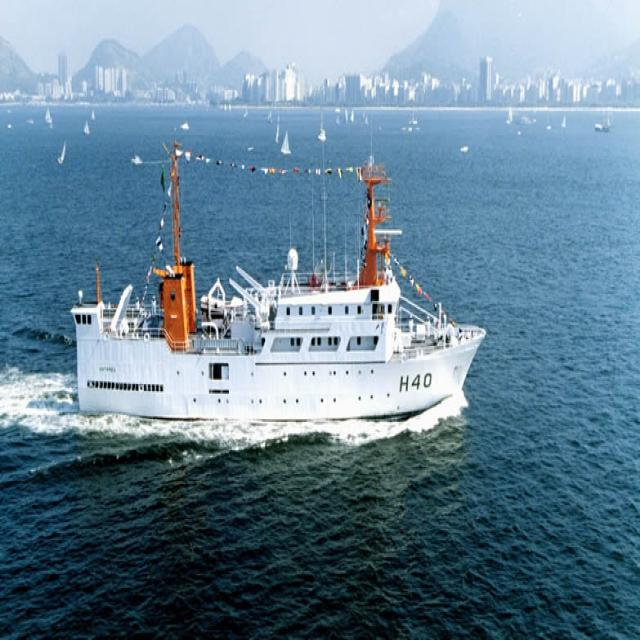Military: (71, 142, 485, 421)
